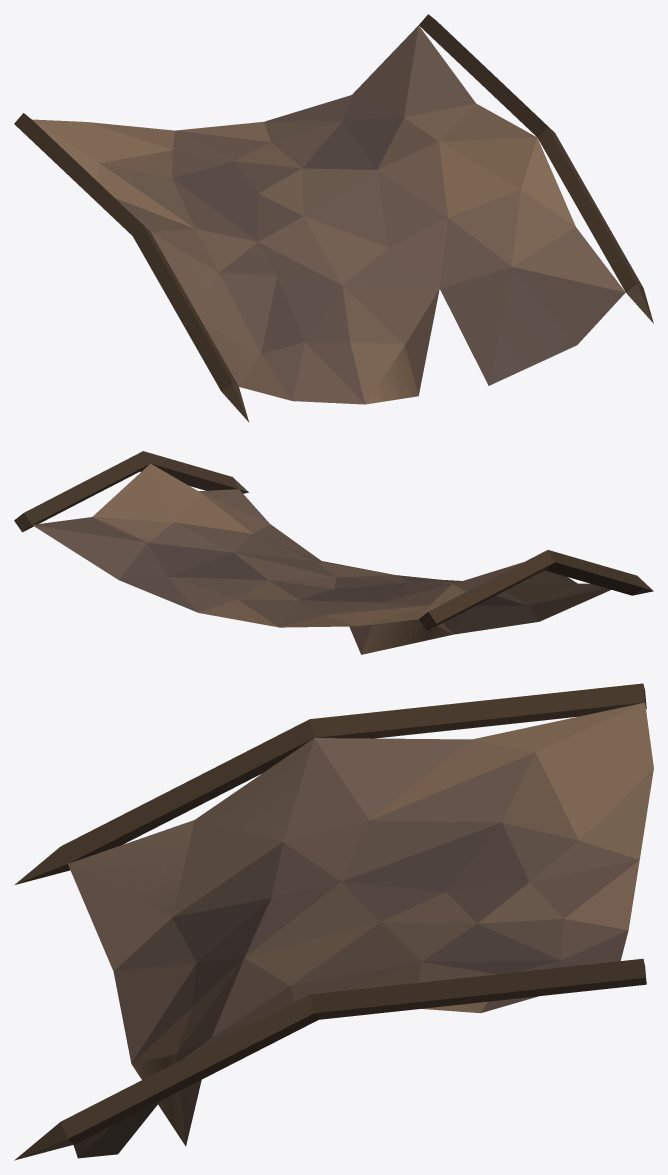
Rendered from Prop_OverhangA.fbx.
The picture shows the model from 3 angles, top to bottom: view 1: azimuth 30°, elevation 25°; view 2: azimuth 150°, elevation 25°; view 3: azimuth 270°, elevation 25°; orthographic projection. The views are drawn at different scales.
Parts seen in each view (by area): view 1: Prop_OverhangA; view 2: Prop_OverhangA; view 3: Prop_OverhangA.
Part boxes in pixels (x1,y1,x2,y2): Prop_OverhangA: (14, 14, 653, 421); Prop_OverhangA: (14, 451, 653, 654); Prop_OverhangA: (14, 683, 653, 1160).
Bounding box in the file's own units: 250 × 124 × 235.
